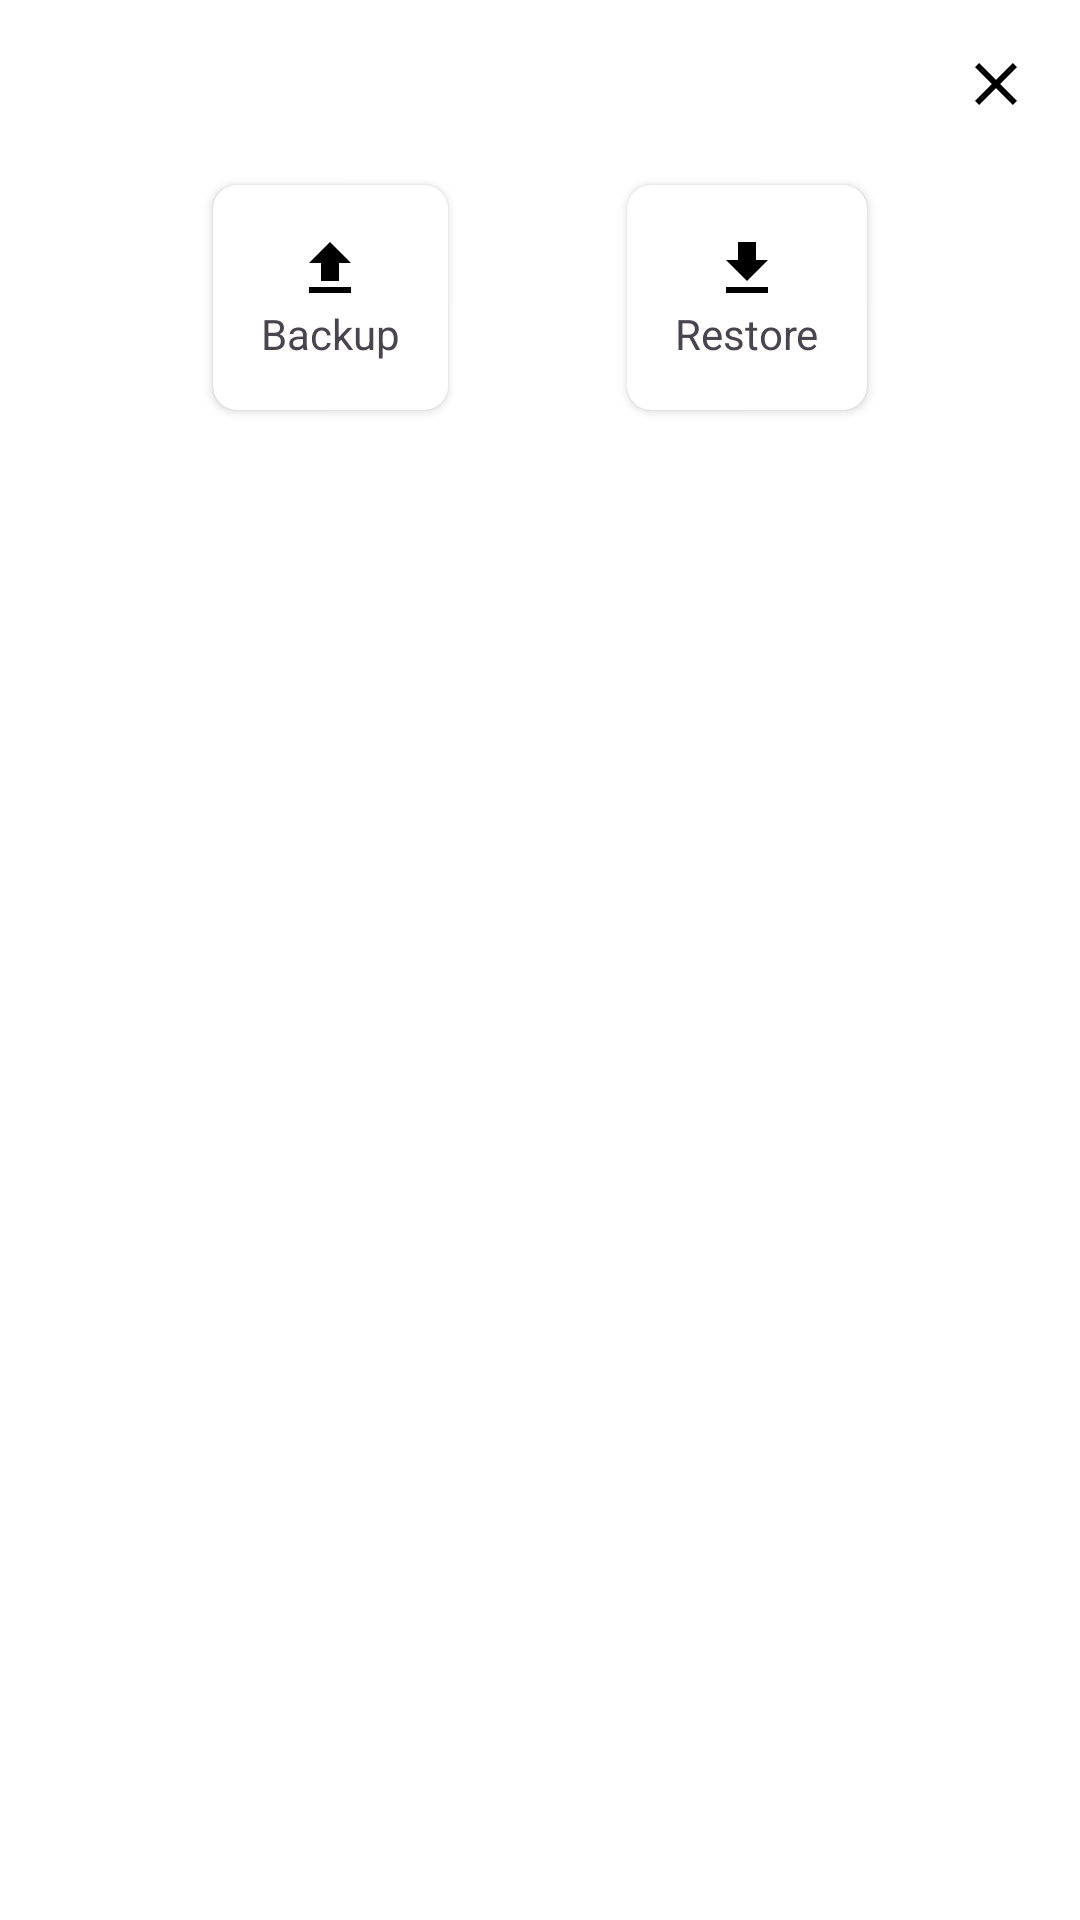

Icons on this 1080*1920 Android screen, each with its box as (x1, y1, x2, y2):
close: (975, 63, 1017, 105)
file download: (726, 242, 768, 293)
upload: (309, 242, 351, 293)
